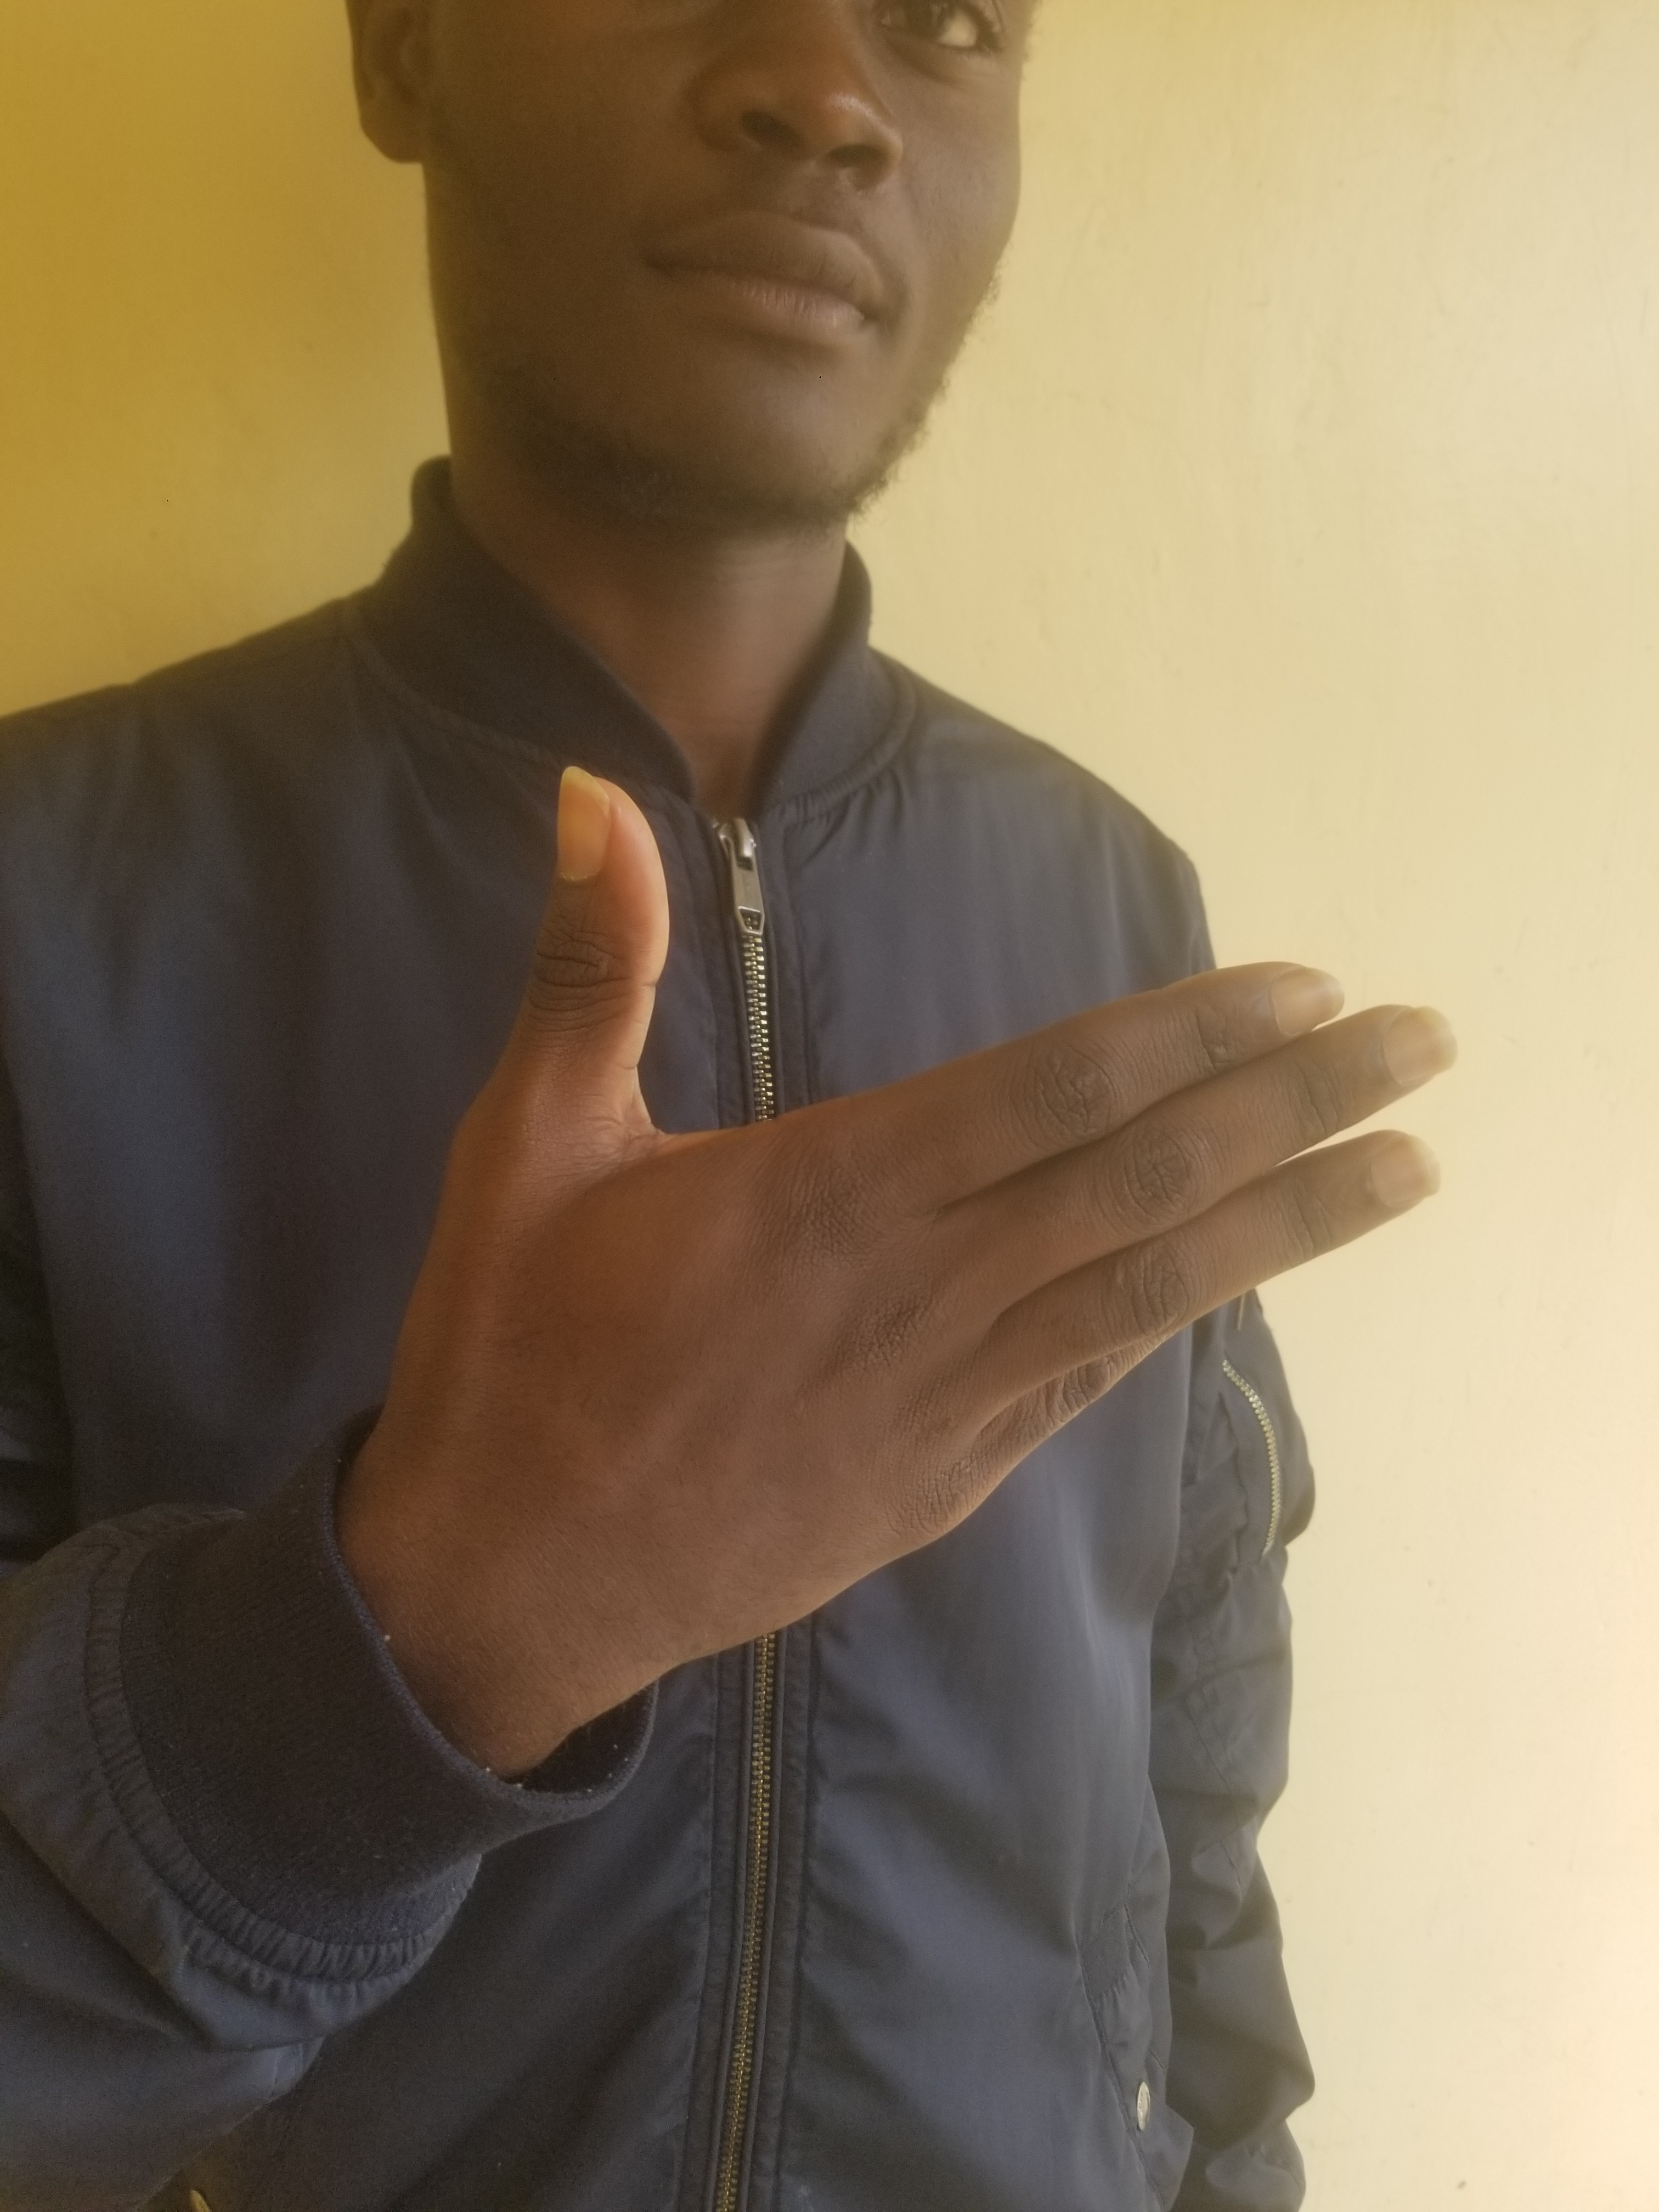open palm: (261, 702, 1619, 1921)
